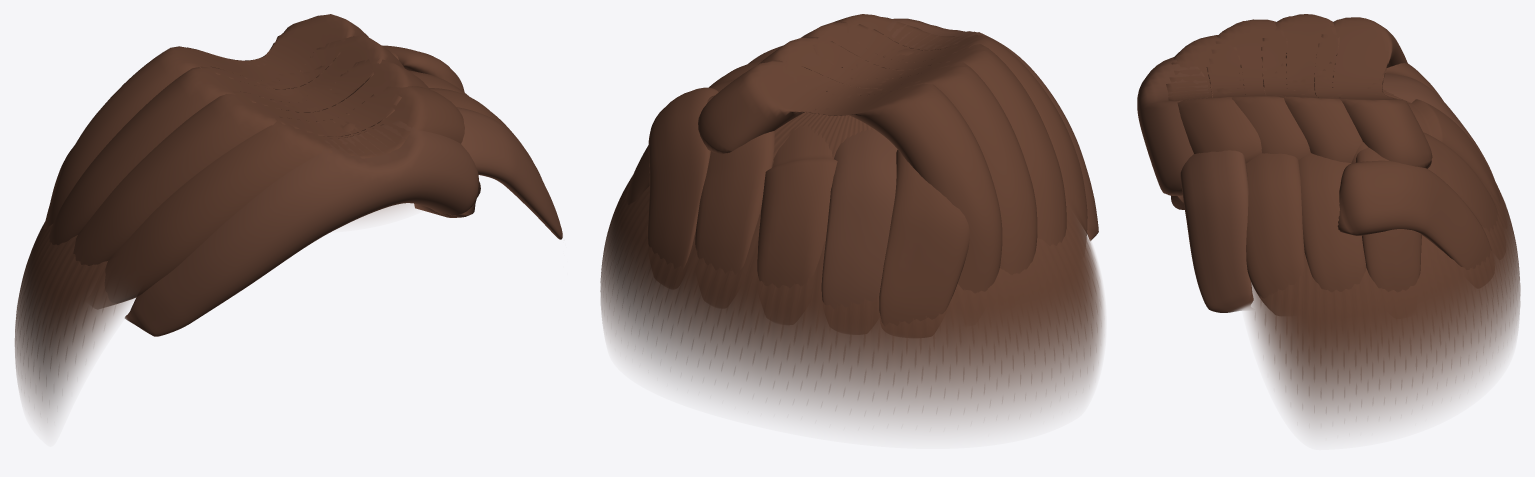
Rendered from Masculine-taper-cowboy257-hair.glb.
3 views of the same model, side by side, from view 1: azimuth 30°, elevation 25°; view 2: azimuth 150°, elevation 25°; view 3: azimuth 270°, elevation 25° (orthographic). The views are drawn at different scales.
Parts seen in each view (by area): view 1: 226 hair / Hair252 / sculpted locks, 226 hair / Hair252 / gentle tonal variation, 226 hair / Hair257 / smooth side fade, 226 hair / Hair257 / directional fade marks; view 2: 226 hair / Hair252 / sculpted locks, 226 hair / Hair257 / smooth side fade, 226 hair / Hair252 / gentle tonal variation, 226 hair / Hair257 / directional fade marks; view 3: 226 hair / Hair252 / sculpted locks, 226 hair / Hair257 / smooth side fade, 226 hair / Hair252 / gentle tonal variation, 226 hair / Hair257 / directional fade marks.
Boxes of the visible parts, x1,y1,x2,y2 form: 226 hair / Hair252 / sculpted locks: (43, 14, 541, 307); 226 hair / Hair252 / gentle tonal variation: (125, 107, 562, 336); 226 hair / Hair257 / smooth side fade: (15, 83, 411, 423); 226 hair / Hair257 / directional fade marks: (16, 224, 106, 379); 226 hair / Hair252 / sculpted locks: (625, 14, 1087, 326); 226 hair / Hair257 / smooth side fade: (600, 78, 1103, 428); 226 hair / Hair252 / gentle tonal variation: (748, 18, 1098, 308); 226 hair / Hair257 / directional fade marks: (606, 179, 1096, 398); 226 hair / Hair252 / sculpted locks: (1166, 14, 1500, 312); 226 hair / Hair257 / smooth side fade: (1246, 86, 1520, 430); 226 hair / Hair252 / gentle tonal variation: (1137, 57, 1494, 312); 226 hair / Hair257 / directional fade marks: (1260, 178, 1517, 396).
Size of the model in its own units: 0.9723 by 0.648 by 0.7439.
